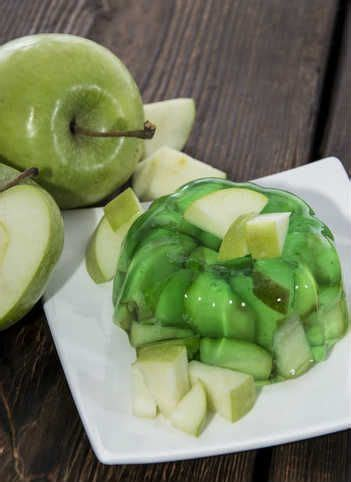apple: (1, 31, 153, 208)
